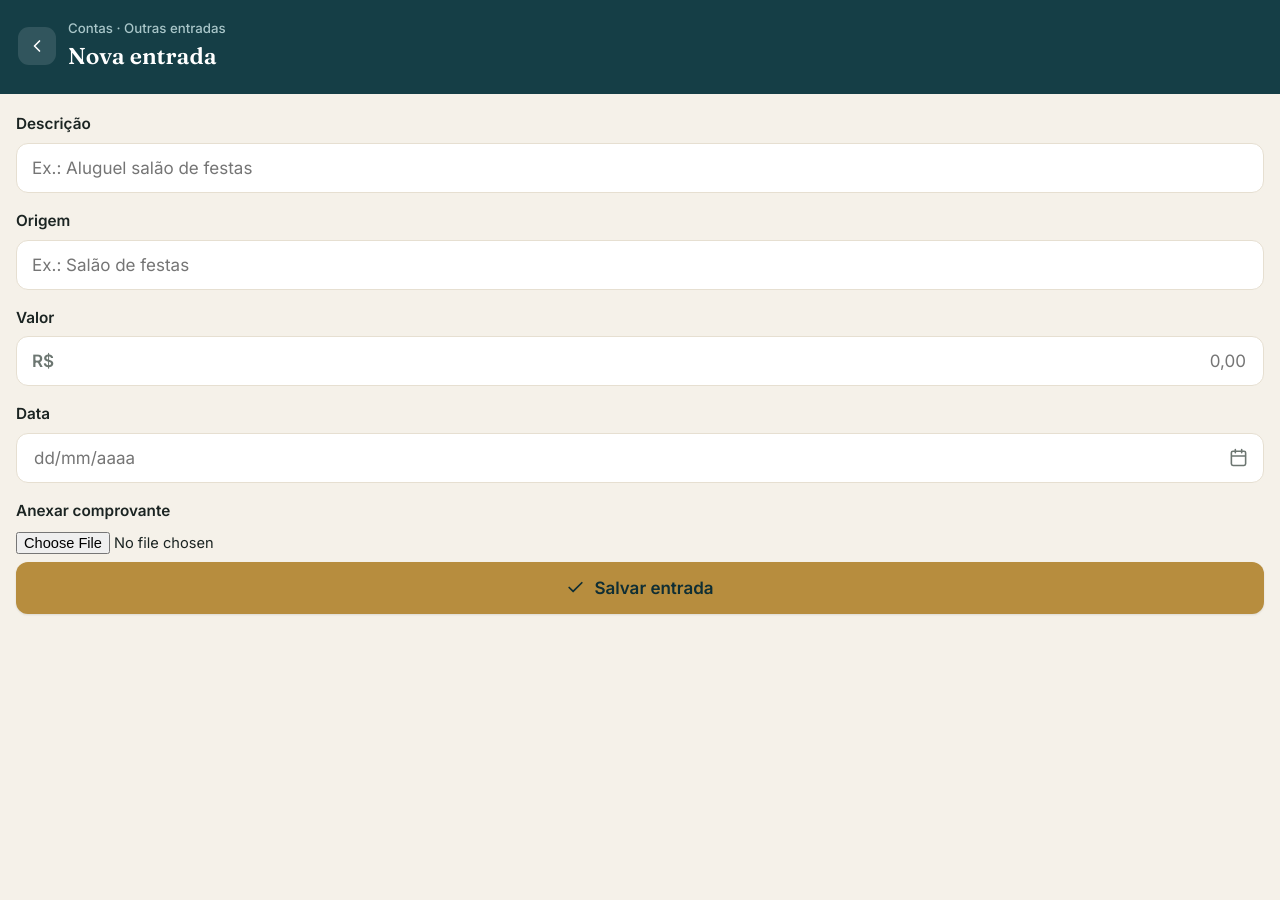
Test: IncomeEditScreen › shows a validation error and does not save when the date is blank
The width and height of the screenshot is (1280, 900).
Type "Aluguel salão de festas" into the field labelled "Descrição". click: [640, 168]
box: x1=16 y1=143 x2=1264 y2=193
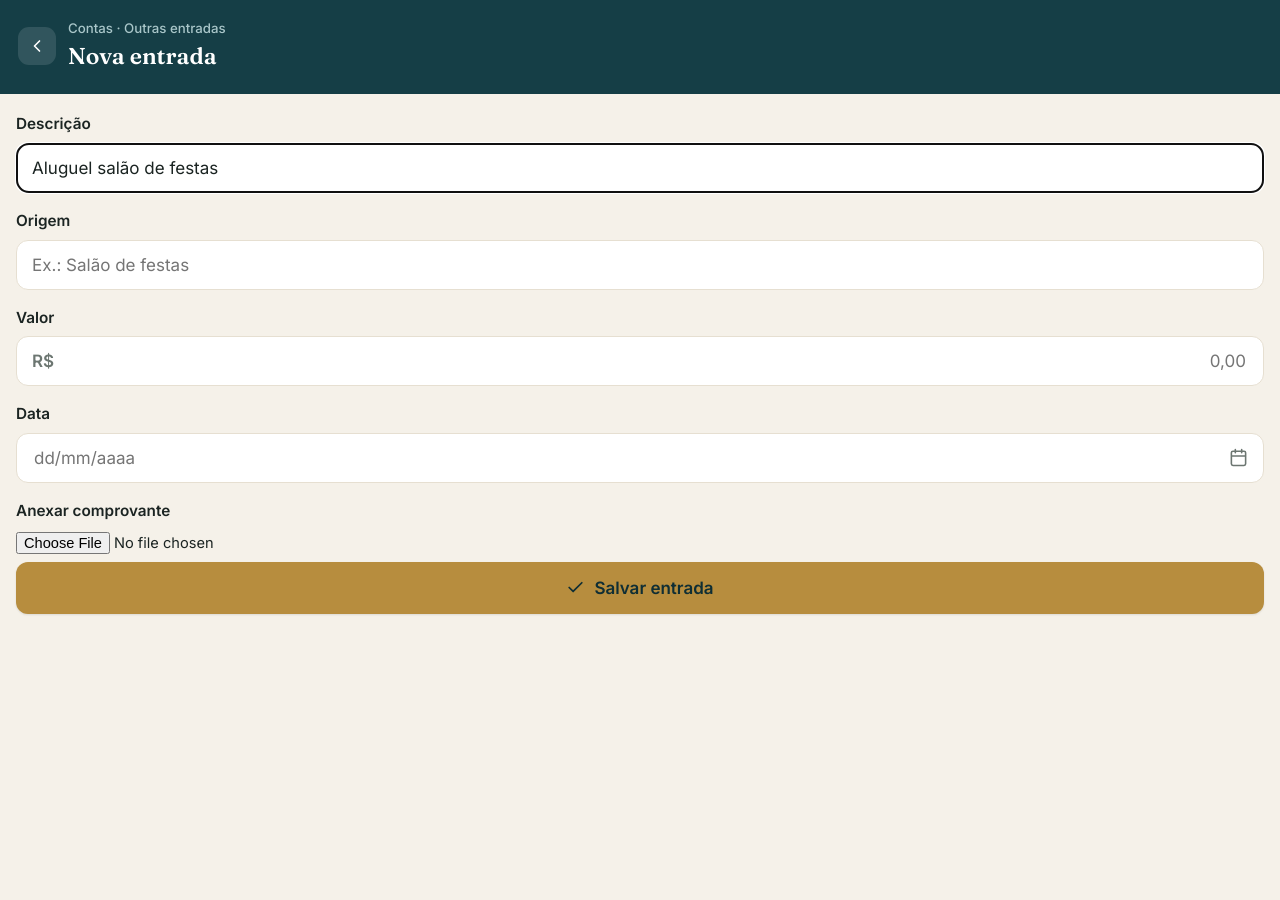
Type "Salão de festas" into the field labelled "Origem". click: [640, 264]
box: x1=16 y1=240 x2=1264 y2=290
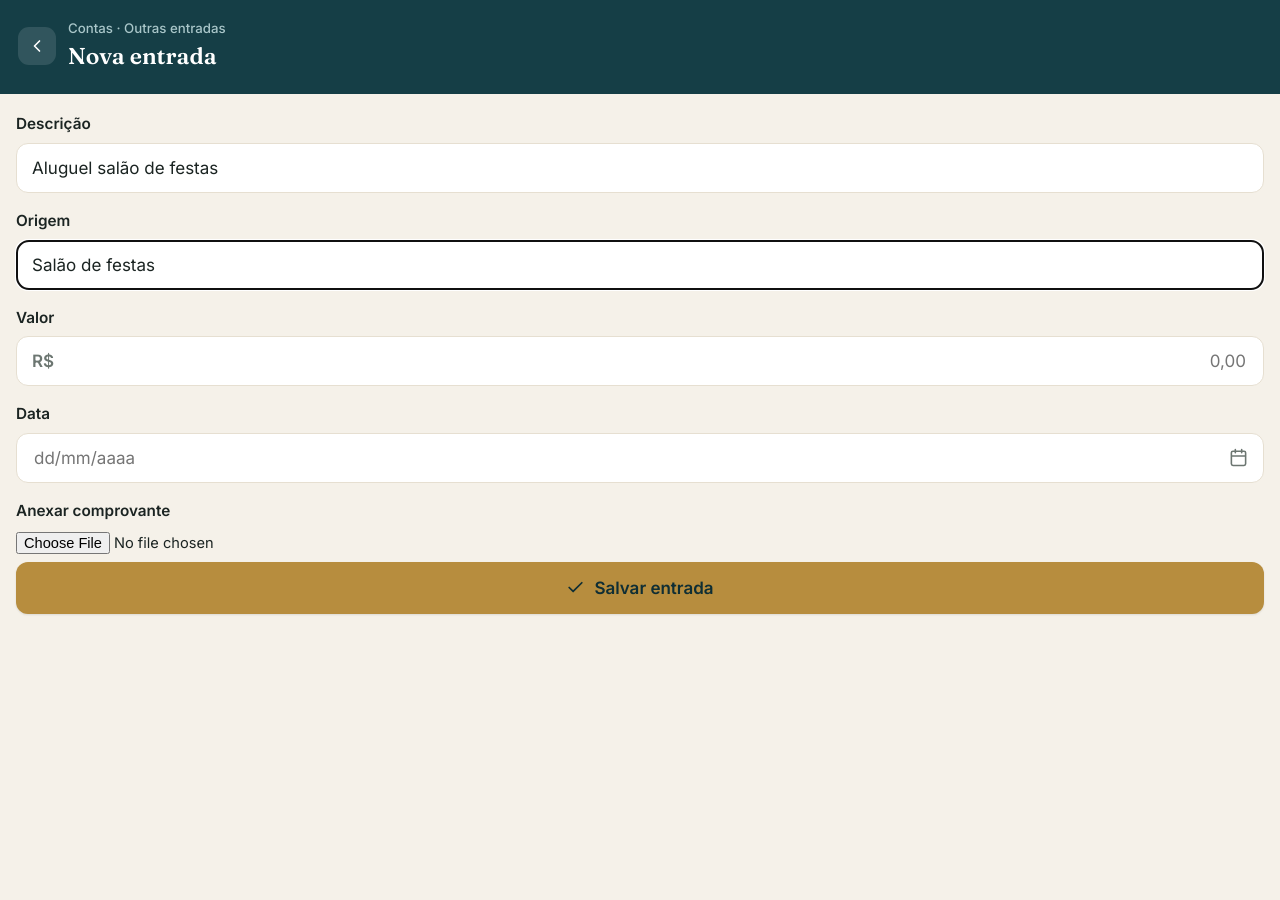
Type "35000" into the field labelled "Valor". click: [655, 361]
box: x1=62 y1=350 x2=1248 y2=372
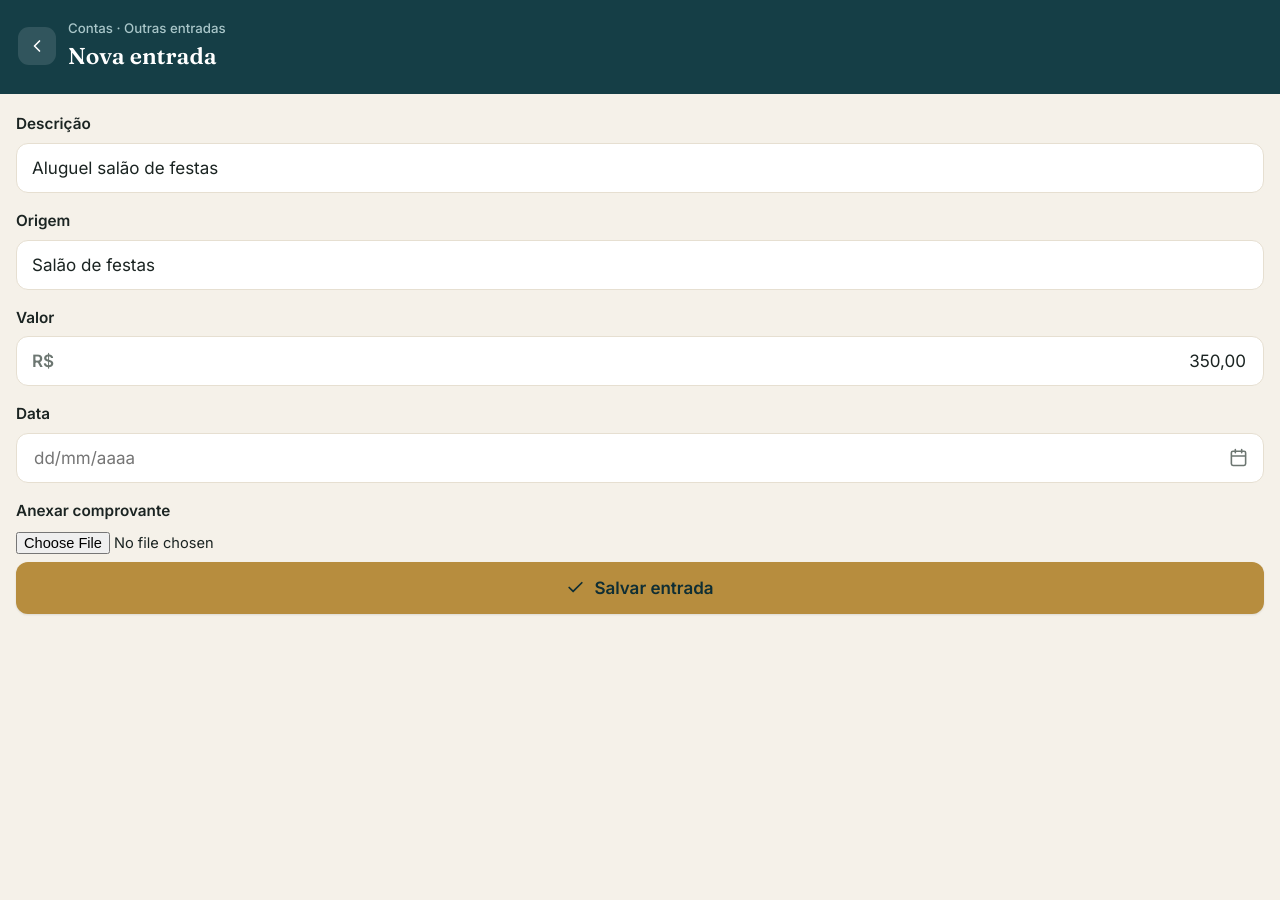
Click the button "Salvar entrada". click: [640, 588]
box: x1=16 y1=562 x2=1264 y2=614
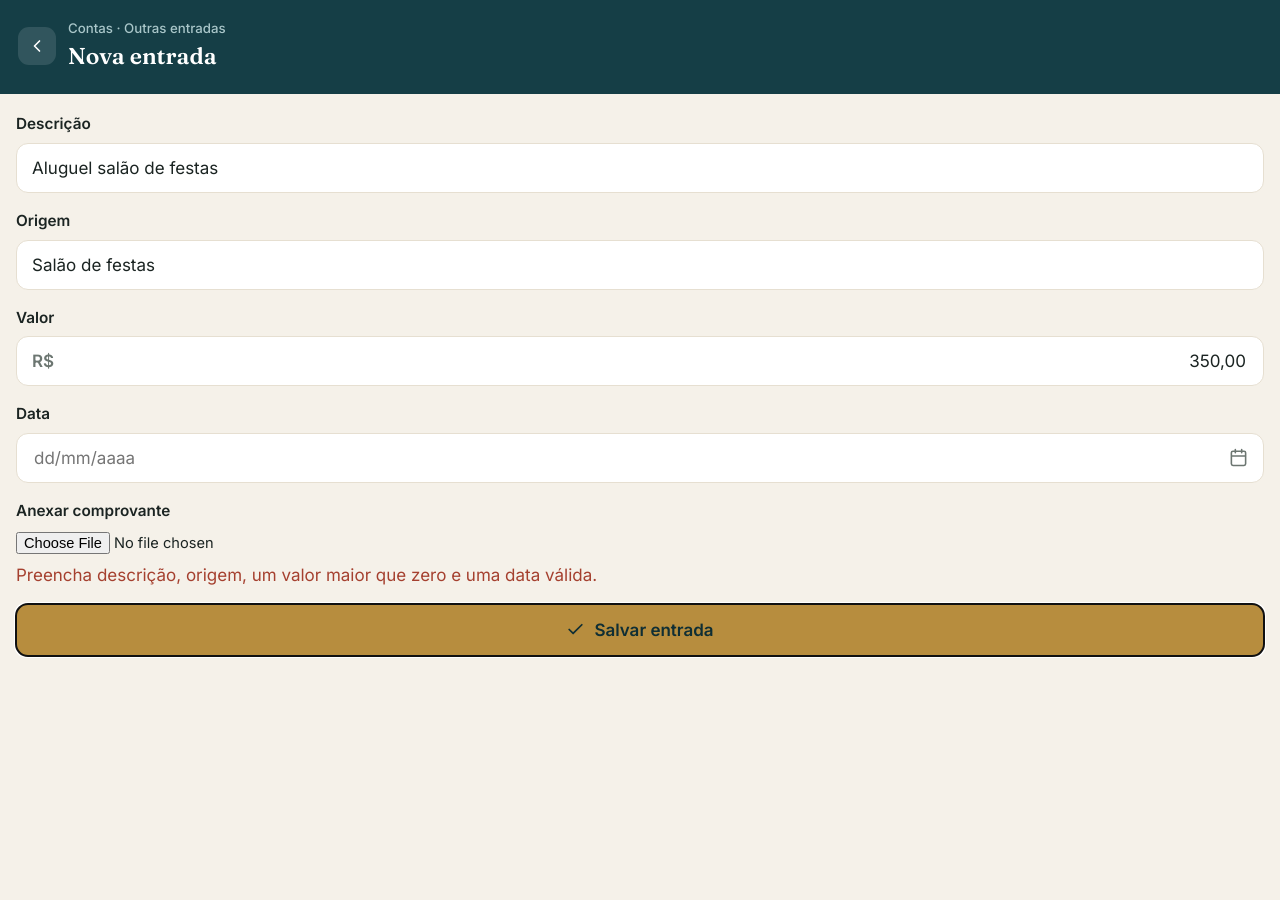
Result: the message reads "Preencha descrição, origem, um valor maior que zero e uma data válida." at x1=16 y1=565 x2=597 y2=585
